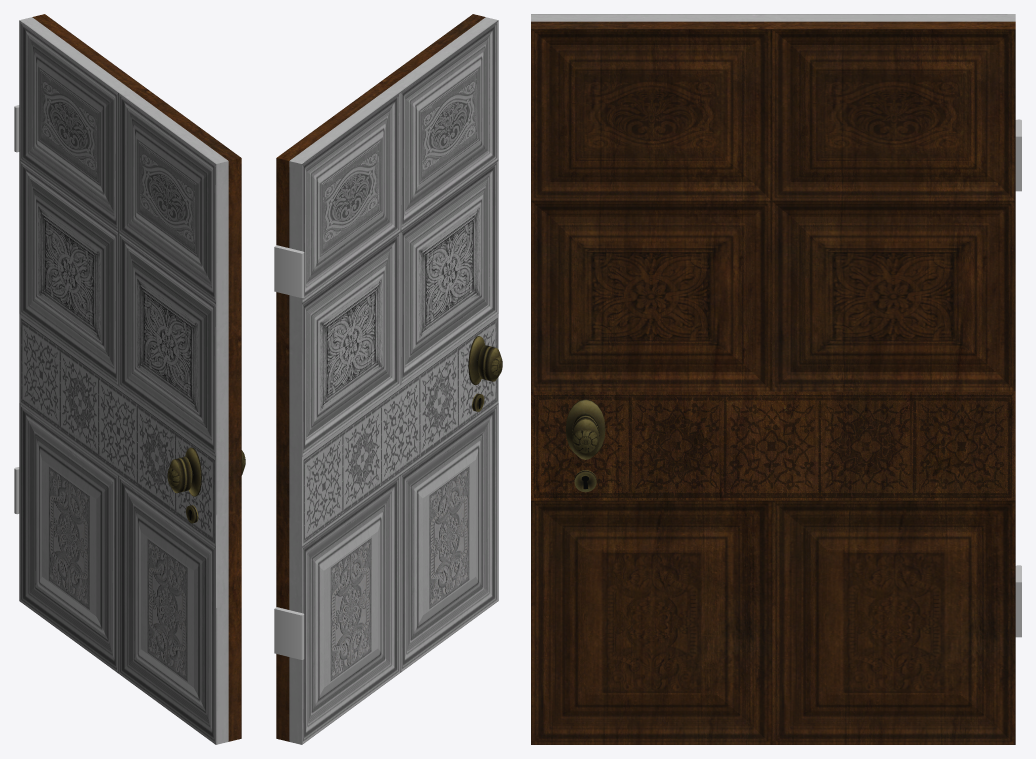
Rendered from wood_panneling_door_01_halfwhite.DAE.
The picture shows the model from 3 angles, left to right: view 1: azimuth 30°, elevation 25°; view 2: azimuth 150°, elevation 25°; view 3: azimuth 270°, elevation 25°; orthographic projection. The views are drawn at different scales.
Parts seen in each view (by area): view 1: door002, door001; view 2: door002, door001, hinges_frame001; view 3: door001, door002, hinges_frame001.
Part boxes in pixels (x1,y1,x2,y2): door002: (19,17,228,744); door001: (32,14,245,741); door002: (289,17,498,744); door001: (276,14,502,741); hinges_frame001: (274,245,304,659); door001: (531,21,1015,744); door002: (531,14,1015,21); hinges_frame001: (1015,119,1021,637).
Bounding box in the file's own units: 0.3694 × 2.83 × 1.76.
